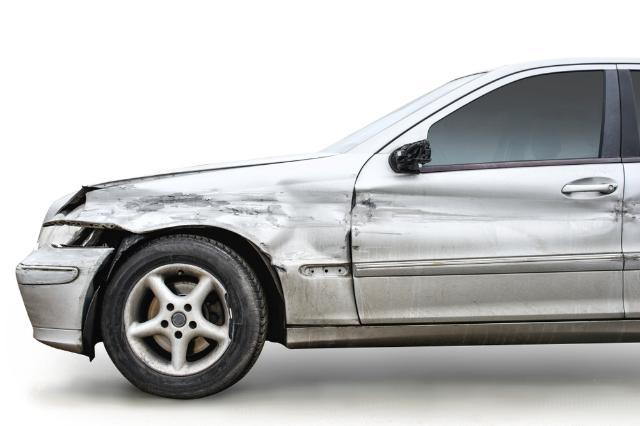dent: (66, 181, 349, 261), (349, 188, 623, 241), (621, 194, 640, 228)
